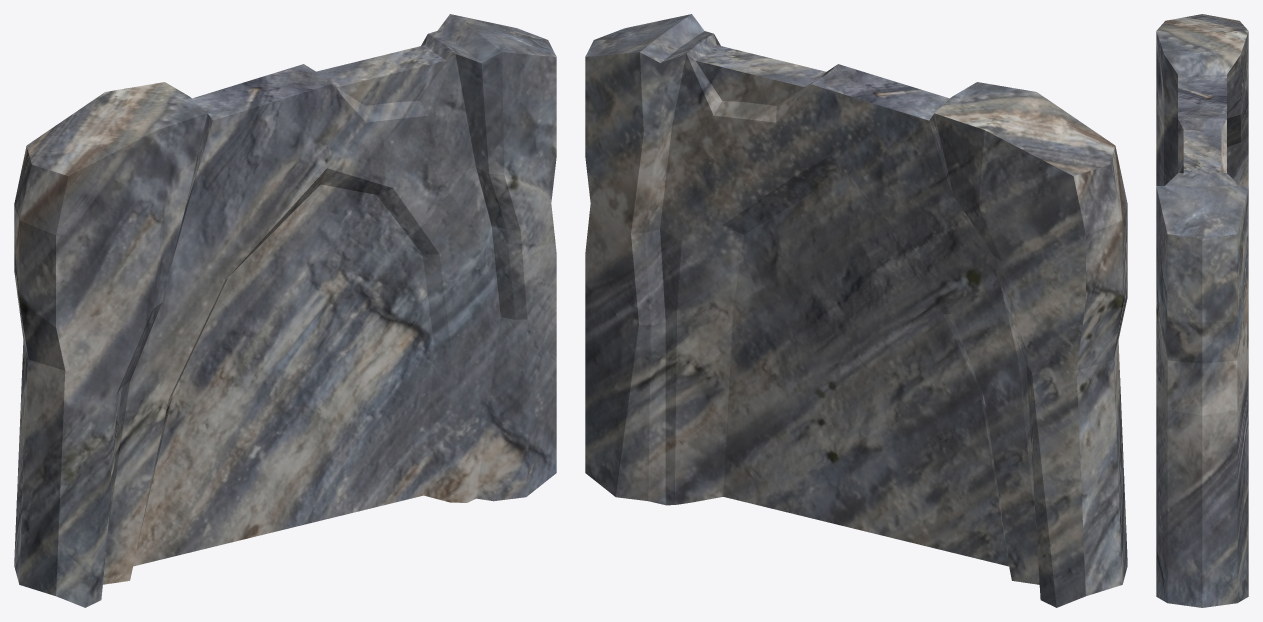
File: RockWall_9.fbx
3 renders of one model, left to right at view 1: azimuth 30°, elevation 25°; view 2: azimuth 150°, elevation 25°; view 3: azimuth 270°, elevation 25°, orthographic. The views are drawn at different scales.
Visible parts, largest first — view 1: polySurface8; view 2: polySurface8; view 3: polySurface8.
Part boxes in pixels (left/top/right/bottom): polySurface8: left=14, top=14, right=556, bottom=607; polySurface8: left=585, top=14, right=1127, bottom=607; polySurface8: left=1156, top=14, right=1248, bottom=607.
Size of the model in its own units: 18 by 15.01 by 3.07.
